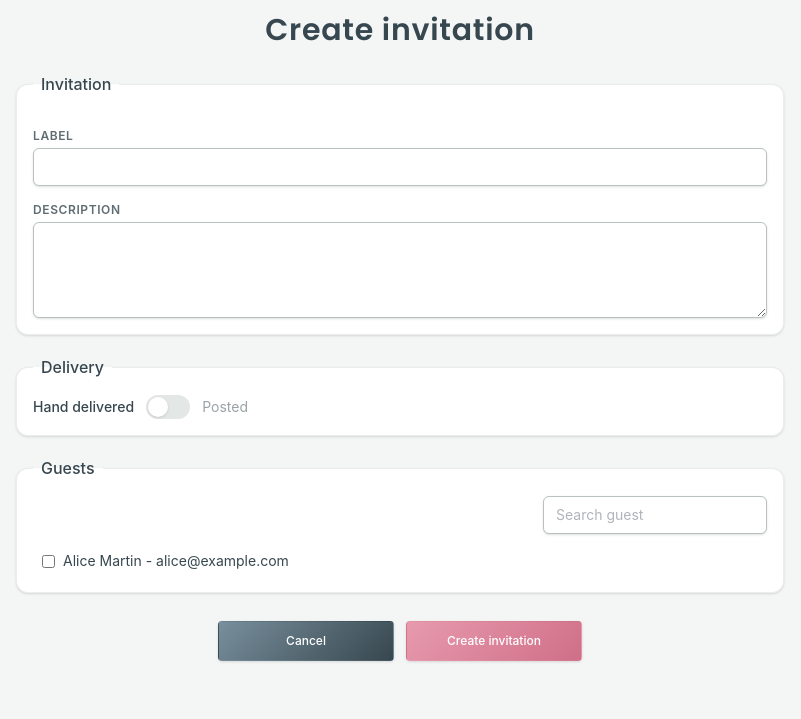
Test: CreateInvitationView › shows validation error when no guest is selected
The width and height of the screenshot is (801, 719).
In the field with test id "invitation-label-input": point(400, 167) [33,148,767,186], type "Family table"
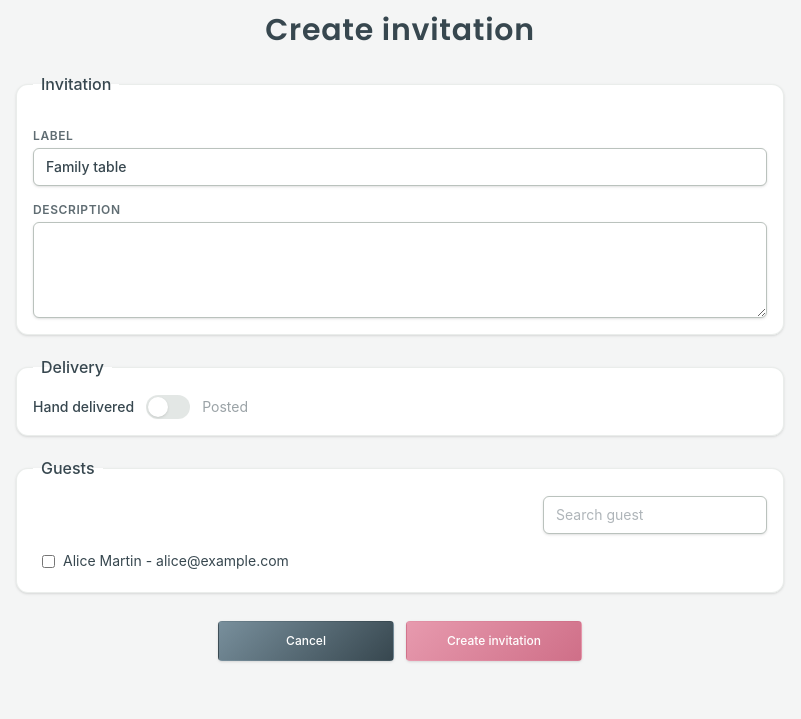
In the text box with test id "invitation-description-input": point(400, 270) [33,222,767,318], type "Main table"
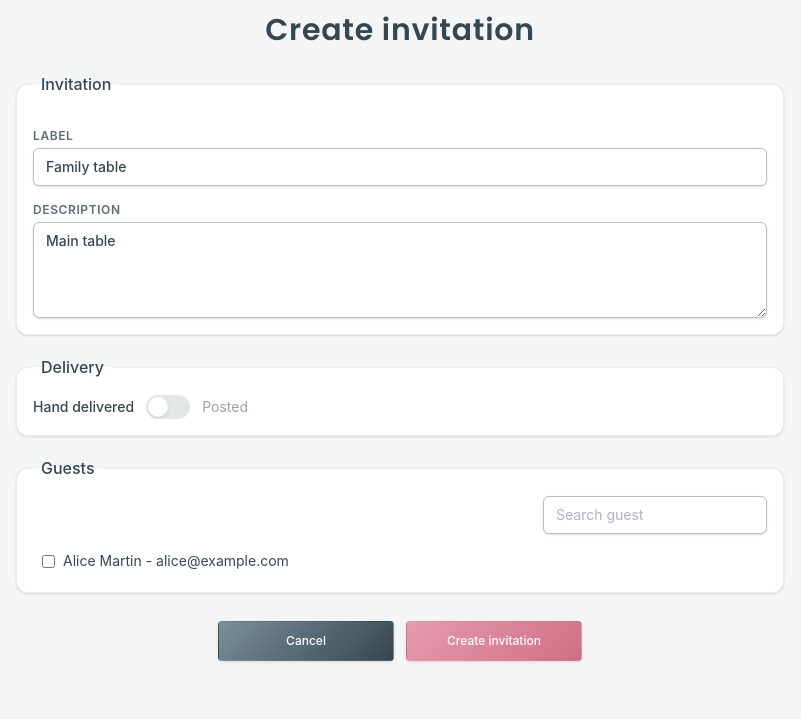
Submit the form
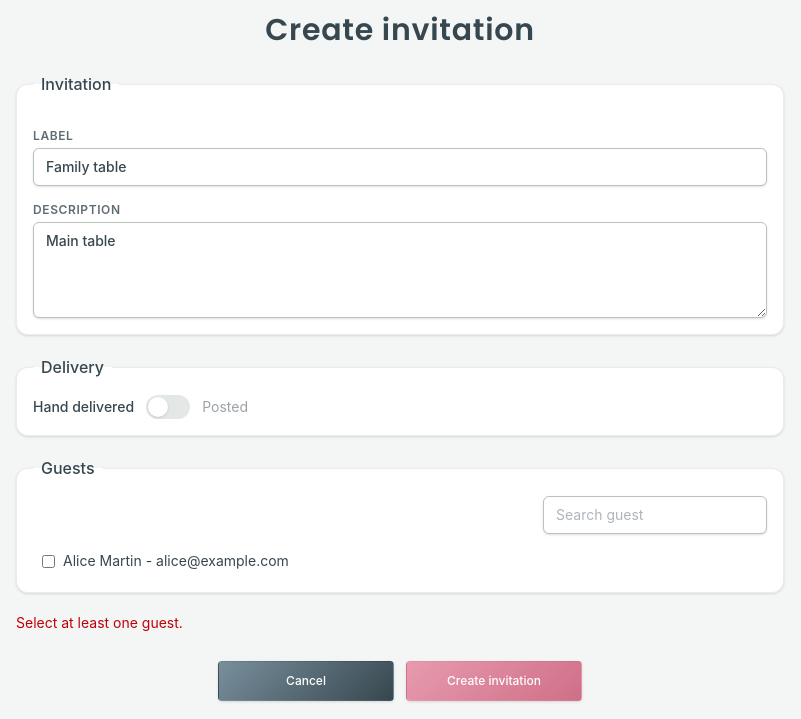
Result: the text with test id "invitation-validation-error" reads "Select at least one guest." at [16,614,183,631]
